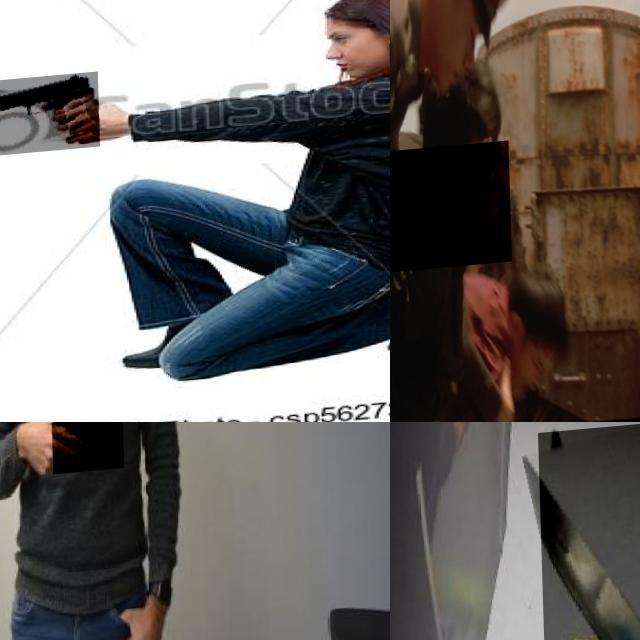-: (537, 424, 640, 640), (49, 422, 122, 479)
gun-knife-thesis - v11 Yolov5 augmented: (390, 148, 508, 278), (0, 75, 97, 160)
